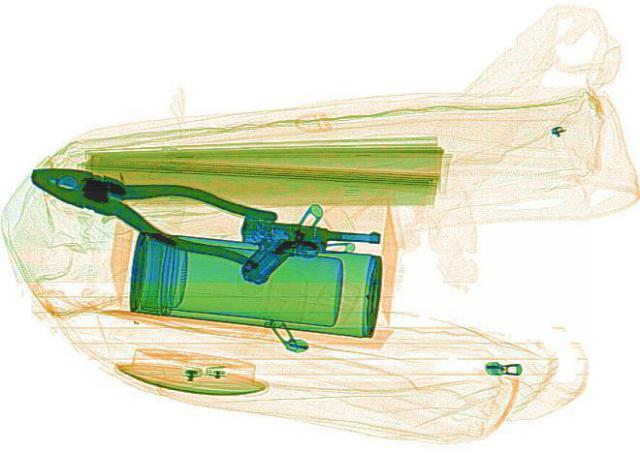Gun: (228, 212, 384, 294)
Pliers: (10, 146, 280, 266)
